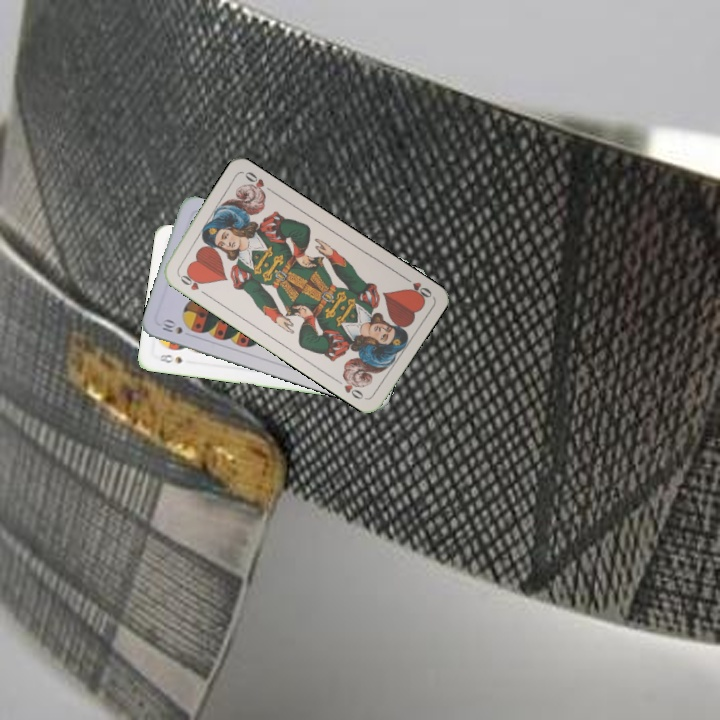HO: (398, 272, 435, 303), (174, 268, 210, 298)
S10: (158, 316, 186, 337)
S8: (155, 350, 185, 366)
